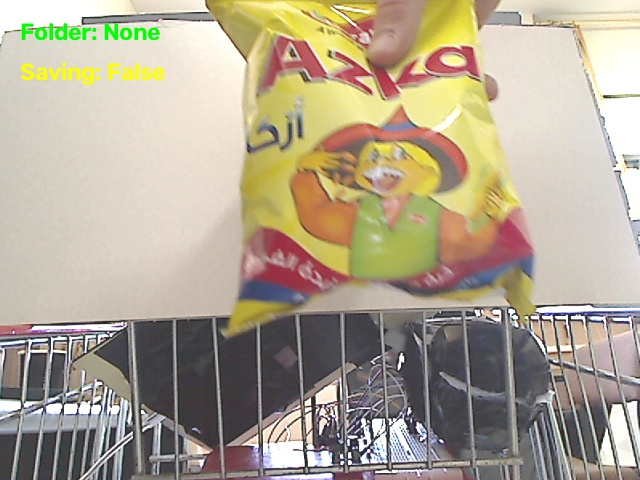chips: (208, 0, 533, 334)
